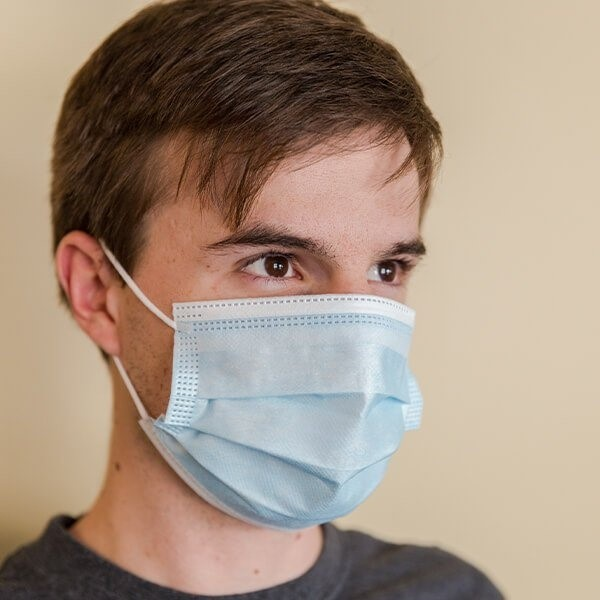face_with_mask: (62, 74, 439, 529)
